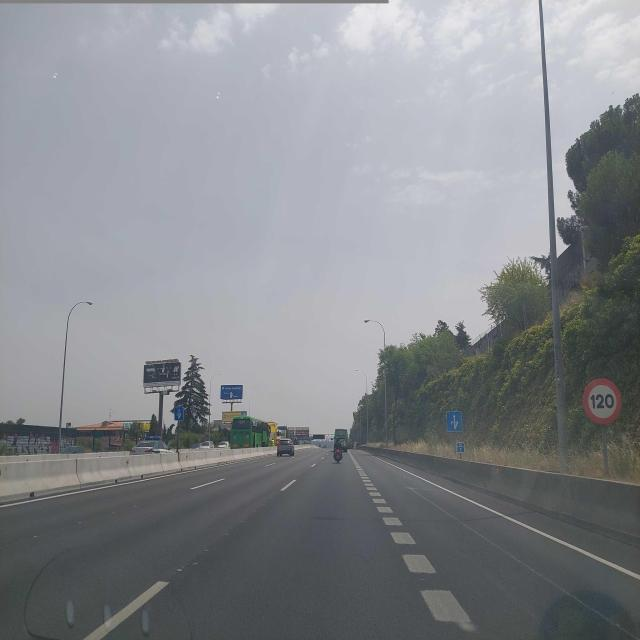bike: (333, 446, 343, 464)
car: (132, 437, 172, 453), (276, 438, 296, 457), (60, 445, 86, 454), (216, 440, 230, 448)
